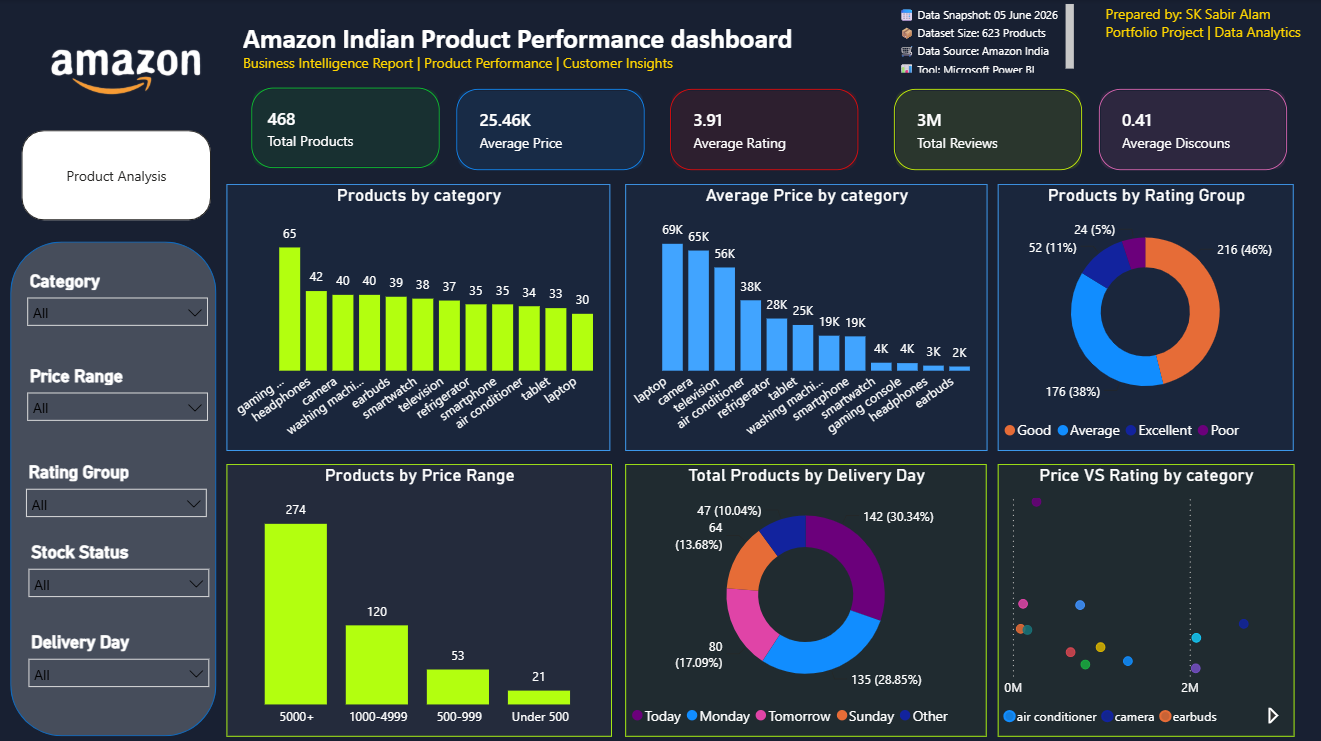

The page's visual inventory and layout, read from the dashboard file:
{"tool":"powerbi","page":{"name":"Executive Summary","canvas":[1280,720],"ordinal":0},"visuals":[{"type":"cardVisual","fields":{"Data":["Amazon.Total Products"]},"box":[226.4,68.6,215.4,112],"z":0},{"type":"clusteredColumnChart","title":"Products by category","fields":{"Category":["Amazon.category"],"Y":["Amazon.Total Products"]},"box":[219.6,178.8,370.7,257.6],"z":1000},{"type":"cardVisual","fields":{"Data":["Amazon.Average Price"]},"box":[424.6,69.6,215.9,112.9],"z":2000},{"type":"cardVisual","fields":{"Data":["Amazon.Average Rating"]},"box":[631,69.6,215.9,112.9],"z":3000},{"type":"clusteredColumnChart","fields":{"Y":["Amazon.Average Price"],"Category":["Amazon.category"]},"box":[604.9,178.8,349.4,257.6],"z":4000},{"type":"cardVisual","fields":{"Data":["Amazon.Total Reviews"]},"box":[846.9,69.6,215.9,112.9],"z":5000},{"type":"donutChart","title":"Products by Rating Group","fields":{"Category":["Amazon.Rating Group"],"Y":["Amazon.Total Products"]},"box":[964.4,178.4,285.7,257.6],"z":6000},{"type":"cardVisual","fields":{"Data":["Amazon.Average Discouns"]},"box":[1045.2,69.6,215.9,112.9],"z":7000},{"type":"columnChart","title":"Products by Price Range","fields":{"Category":["Amazon.Price Range"],"Y":["Amazon.Total Products"]},"box":[219.6,448.7,371.9,263.5],"z":8000},{"type":"shape","box":[11,234.6,199,477.5],"z":9000},{"type":"slicer","fields":{"Values":["Amazon.category"]},"box":[16.5,256.6,194.7,86.3],"z":10000,"group":"g1"},{"type":"donutChart","fields":{"Category":["Amazon.Delivery Day"],"Y":["Amazon.Total Products"]},"box":[605,449,349,263],"z":11000},{"type":"slicer","fields":{"Values":["Amazon.Price Range"]},"box":[16.5,347.8,194.7,86.3],"z":12000,"group":"g1"},{"type":"scatterChart","title":"Price VS Rating by category","fields":{"Series":["Amazon.category"],"X":["Sum(Amazon.Price)"],"Y":["Sum(Amazon.Rating)"]},"box":[964,449,286,263],"z":13000},{"type":"slicer","fields":{"Values":["Amazon.Rating Group"]},"box":[15.1,440.7,194.7,86.3],"z":14000,"group":"g1"},{"type":"slicer","fields":{"Values":["Amazon.Stock Status"]},"box":[18,518.9,194.7,86.3],"z":15000,"group":"g1"},{"type":"slicer","fields":{"Values":["Amazon.Delivery Day"]},"box":[18,605.2,194.7,86.3],"z":16000,"group":"g1"},{"type":"image","box":[15.1,0,215.4,149.6],"z":17000},{"type":"textbox","box":[230.5,16.5,565.4,52.1],"z":18000},{"type":"pageNavigator","box":[22,126.2,183.9,87.8],"z":19000},{"type":"textbox","box":[230,46.7,481.1,40],"z":19001},{"type":"group","id":"g1","title":"Group 1","box":[15.1,256.6,197.6,435],"z":19002},{"type":"textbox","box":[863.8,0,178.6,76],"z":19003},{"type":"textbox","box":[1062.9,0,200.3,49.5],"z":19004}]}

Visuals, with their boxes in screenshot pixels (x1, y1, x2, y2), scaled from the page's 1280x720 canvas onto the 1321x741 screenshot:
cardVisual - Amazon.Total Products: box=[234, 71, 456, 186]
"Products by category" clusteredColumnChart: box=[227, 184, 609, 449]
cardVisual - Amazon.Average Price: box=[438, 72, 661, 188]
cardVisual - Amazon.Average Rating: box=[651, 72, 874, 188]
clusteredColumnChart - Amazon.Average Price x Amazon.category: box=[624, 184, 985, 449]
cardVisual - Amazon.Total Reviews: box=[874, 72, 1097, 188]
"Products by Rating Group" donutChart: box=[995, 184, 1290, 449]
cardVisual - Amazon.Average Discouns: box=[1079, 72, 1301, 188]
"Products by Price Range" columnChart: box=[227, 462, 610, 733]
shape: box=[11, 241, 217, 733]
slicer - Amazon.category: box=[17, 264, 218, 353]
donutChart - Amazon.Delivery Day x Amazon.Total Products: box=[624, 462, 985, 733]
slicer - Amazon.Price Range: box=[17, 358, 218, 447]
"Price VS Rating by category" scatterChart: box=[995, 462, 1290, 733]
slicer - Amazon.Rating Group: box=[16, 454, 217, 542]
slicer - Amazon.Stock Status: box=[19, 534, 220, 623]
slicer - Amazon.Delivery Day: box=[19, 623, 220, 712]
image: box=[16, 0, 238, 154]
textbox: box=[238, 17, 821, 71]
pageNavigator: box=[23, 130, 212, 220]
textbox: box=[237, 48, 734, 89]
"Group 1" group: box=[16, 264, 220, 712]
textbox: box=[891, 0, 1076, 78]
textbox: box=[1097, 0, 1304, 51]
